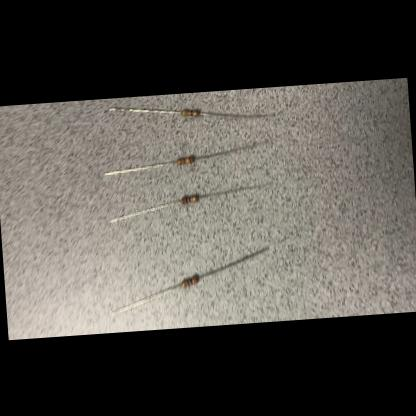resistor: (180, 275, 198, 286), (181, 195, 198, 204), (177, 156, 194, 164), (182, 108, 199, 116)
wire: (197, 247, 271, 278), (111, 283, 183, 314), (108, 200, 181, 222), (194, 140, 270, 158), (197, 182, 273, 198), (109, 102, 181, 118), (198, 106, 274, 120), (104, 160, 176, 174)
